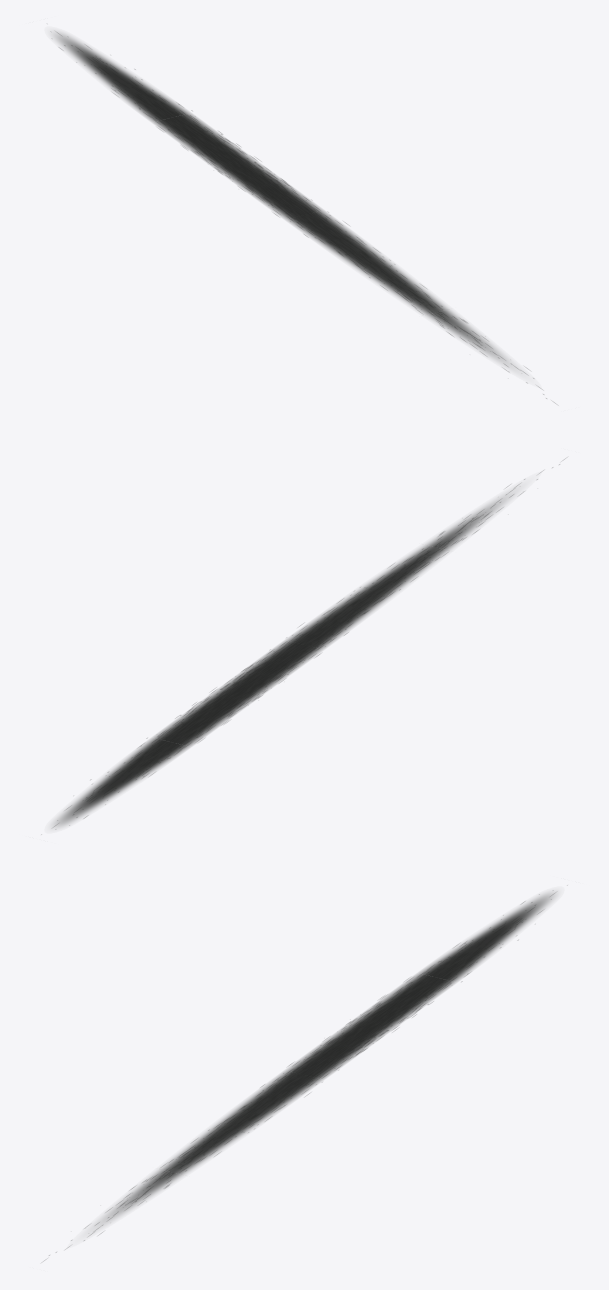
The model's file is skidmarks_heavy.gltf.
3 renders of one model, top to bottom at view 1: azimuth 30°, elevation 25°; view 2: azimuth 150°, elevation 25°; view 3: azimuth 330°, elevation 25°, orthographic.
Parts seen in each view (by area): view 1: skidmarks_heavy; view 2: skidmarks_heavy; view 3: skidmarks_heavy.
Boxes of the visible parts, x1,y1,x2,y2 form: skidmarks_heavy: (50,31,555,403); skidmarks_heavy: (51,458,565,829); skidmarks_heavy: (43,890,557,1261).
Size of the model in its own units: 31.08 by 0 by 576.
Materials: 1 (1 with a texture image).
